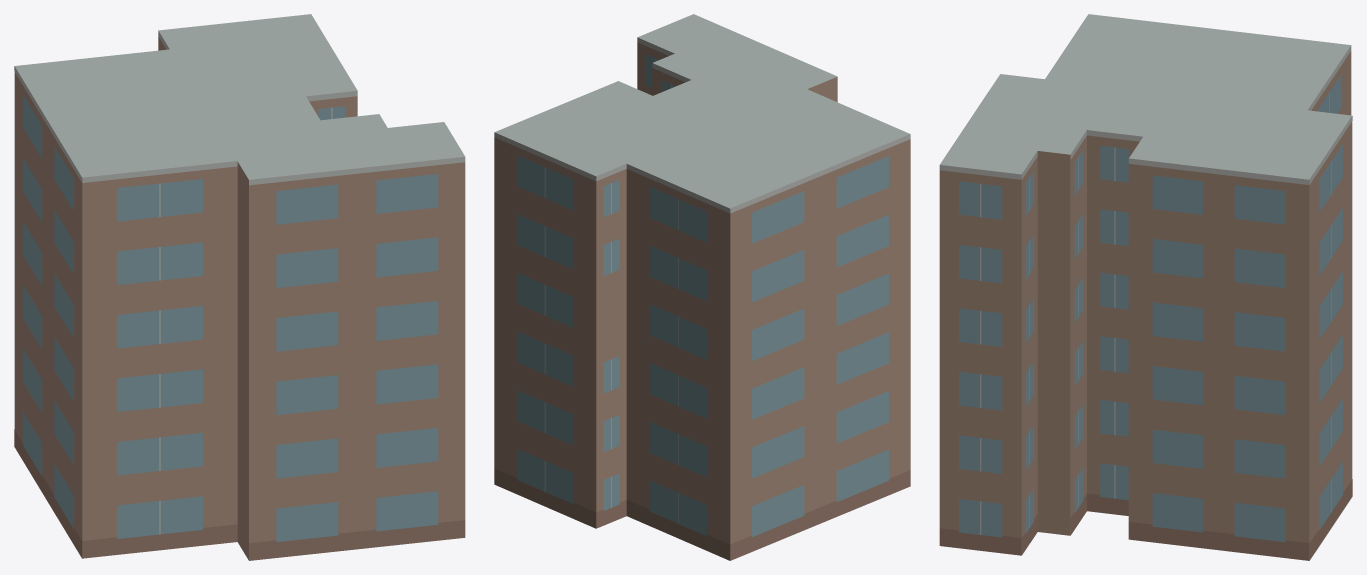
File: survey-upis-32582132.glb
The picture shows the model from 3 angles, left to right: view 1: azimuth 30°, elevation 25°; view 2: azimuth 150°, elevation 25°; view 3: azimuth 270°, elevation 25°; orthographic projection. The views are drawn at different scales.
Parts seen in each view (by area): view 1: survey-upis-32582132.tmp; view 2: survey-upis-32582132.tmp; view 3: survey-upis-32582132.tmp.
Part boxes in pixels (x1,y1,x2,y2): survey-upis-32582132.tmp: [14, 14, 465, 560]; survey-upis-32582132.tmp: [494, 14, 910, 560]; survey-upis-32582132.tmp: [939, 14, 1352, 560].
Bounding box in the file's own units: 16.15 × 17.3 × 16.99.
